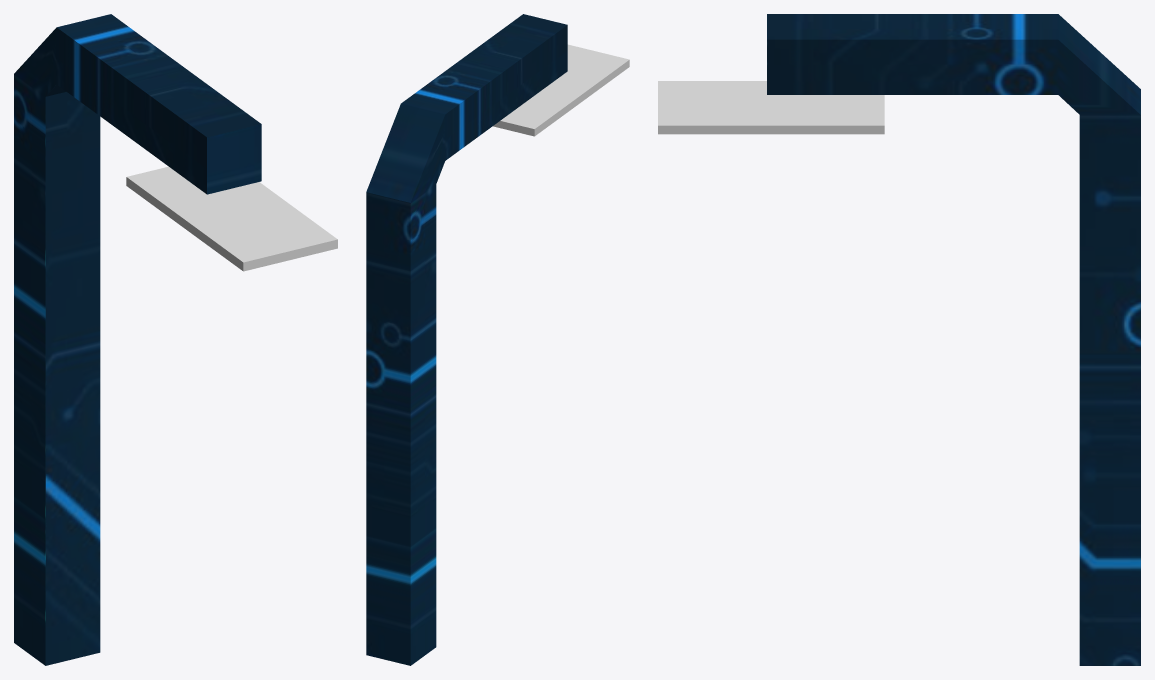
The model's file is StreetLight.fbx.
The picture shows the model from 3 angles, left to right: view 1: azimuth 30°, elevation 25°; view 2: azimuth 150°, elevation 25°; view 3: azimuth 270°, elevation 25°; orthographic projection. The views are drawn at different scales.
Parts seen in each view (by area): view 1: Cube.003; view 2: Cube.003; view 3: Cube.003.
Boxes of the visible parts, box(x1,y1,x2,y2) form: Cube.003: box(14, 14, 337, 665); Cube.003: box(366, 14, 629, 665); Cube.003: box(658, 14, 1140, 665).
Bounding box in the file's own units: 78.57 × 359 × 514.
